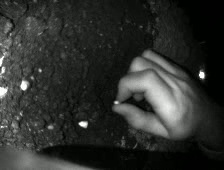corn: (17, 78, 33, 93), (76, 119, 90, 129), (112, 99, 123, 106)
